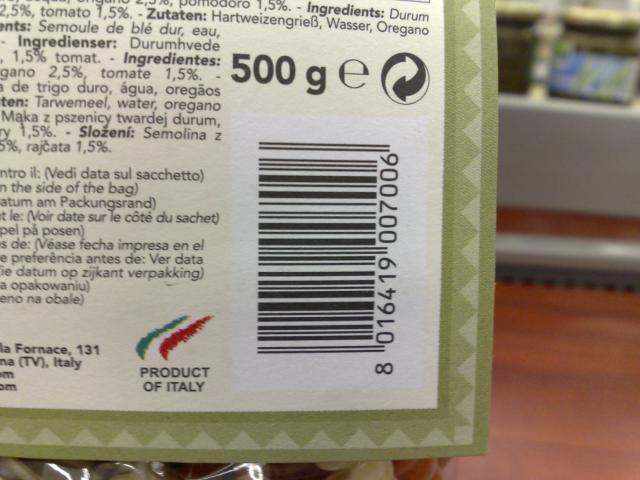Barcode: (231, 140, 402, 386)
